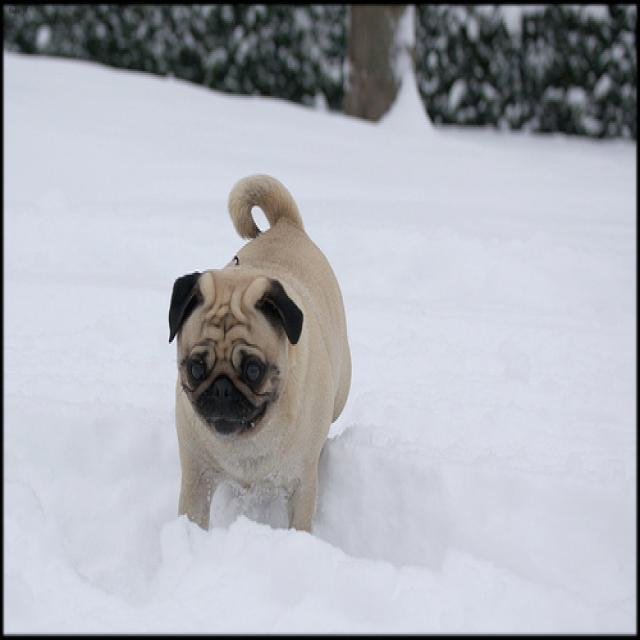dog-pug: (163, 165, 353, 546)
